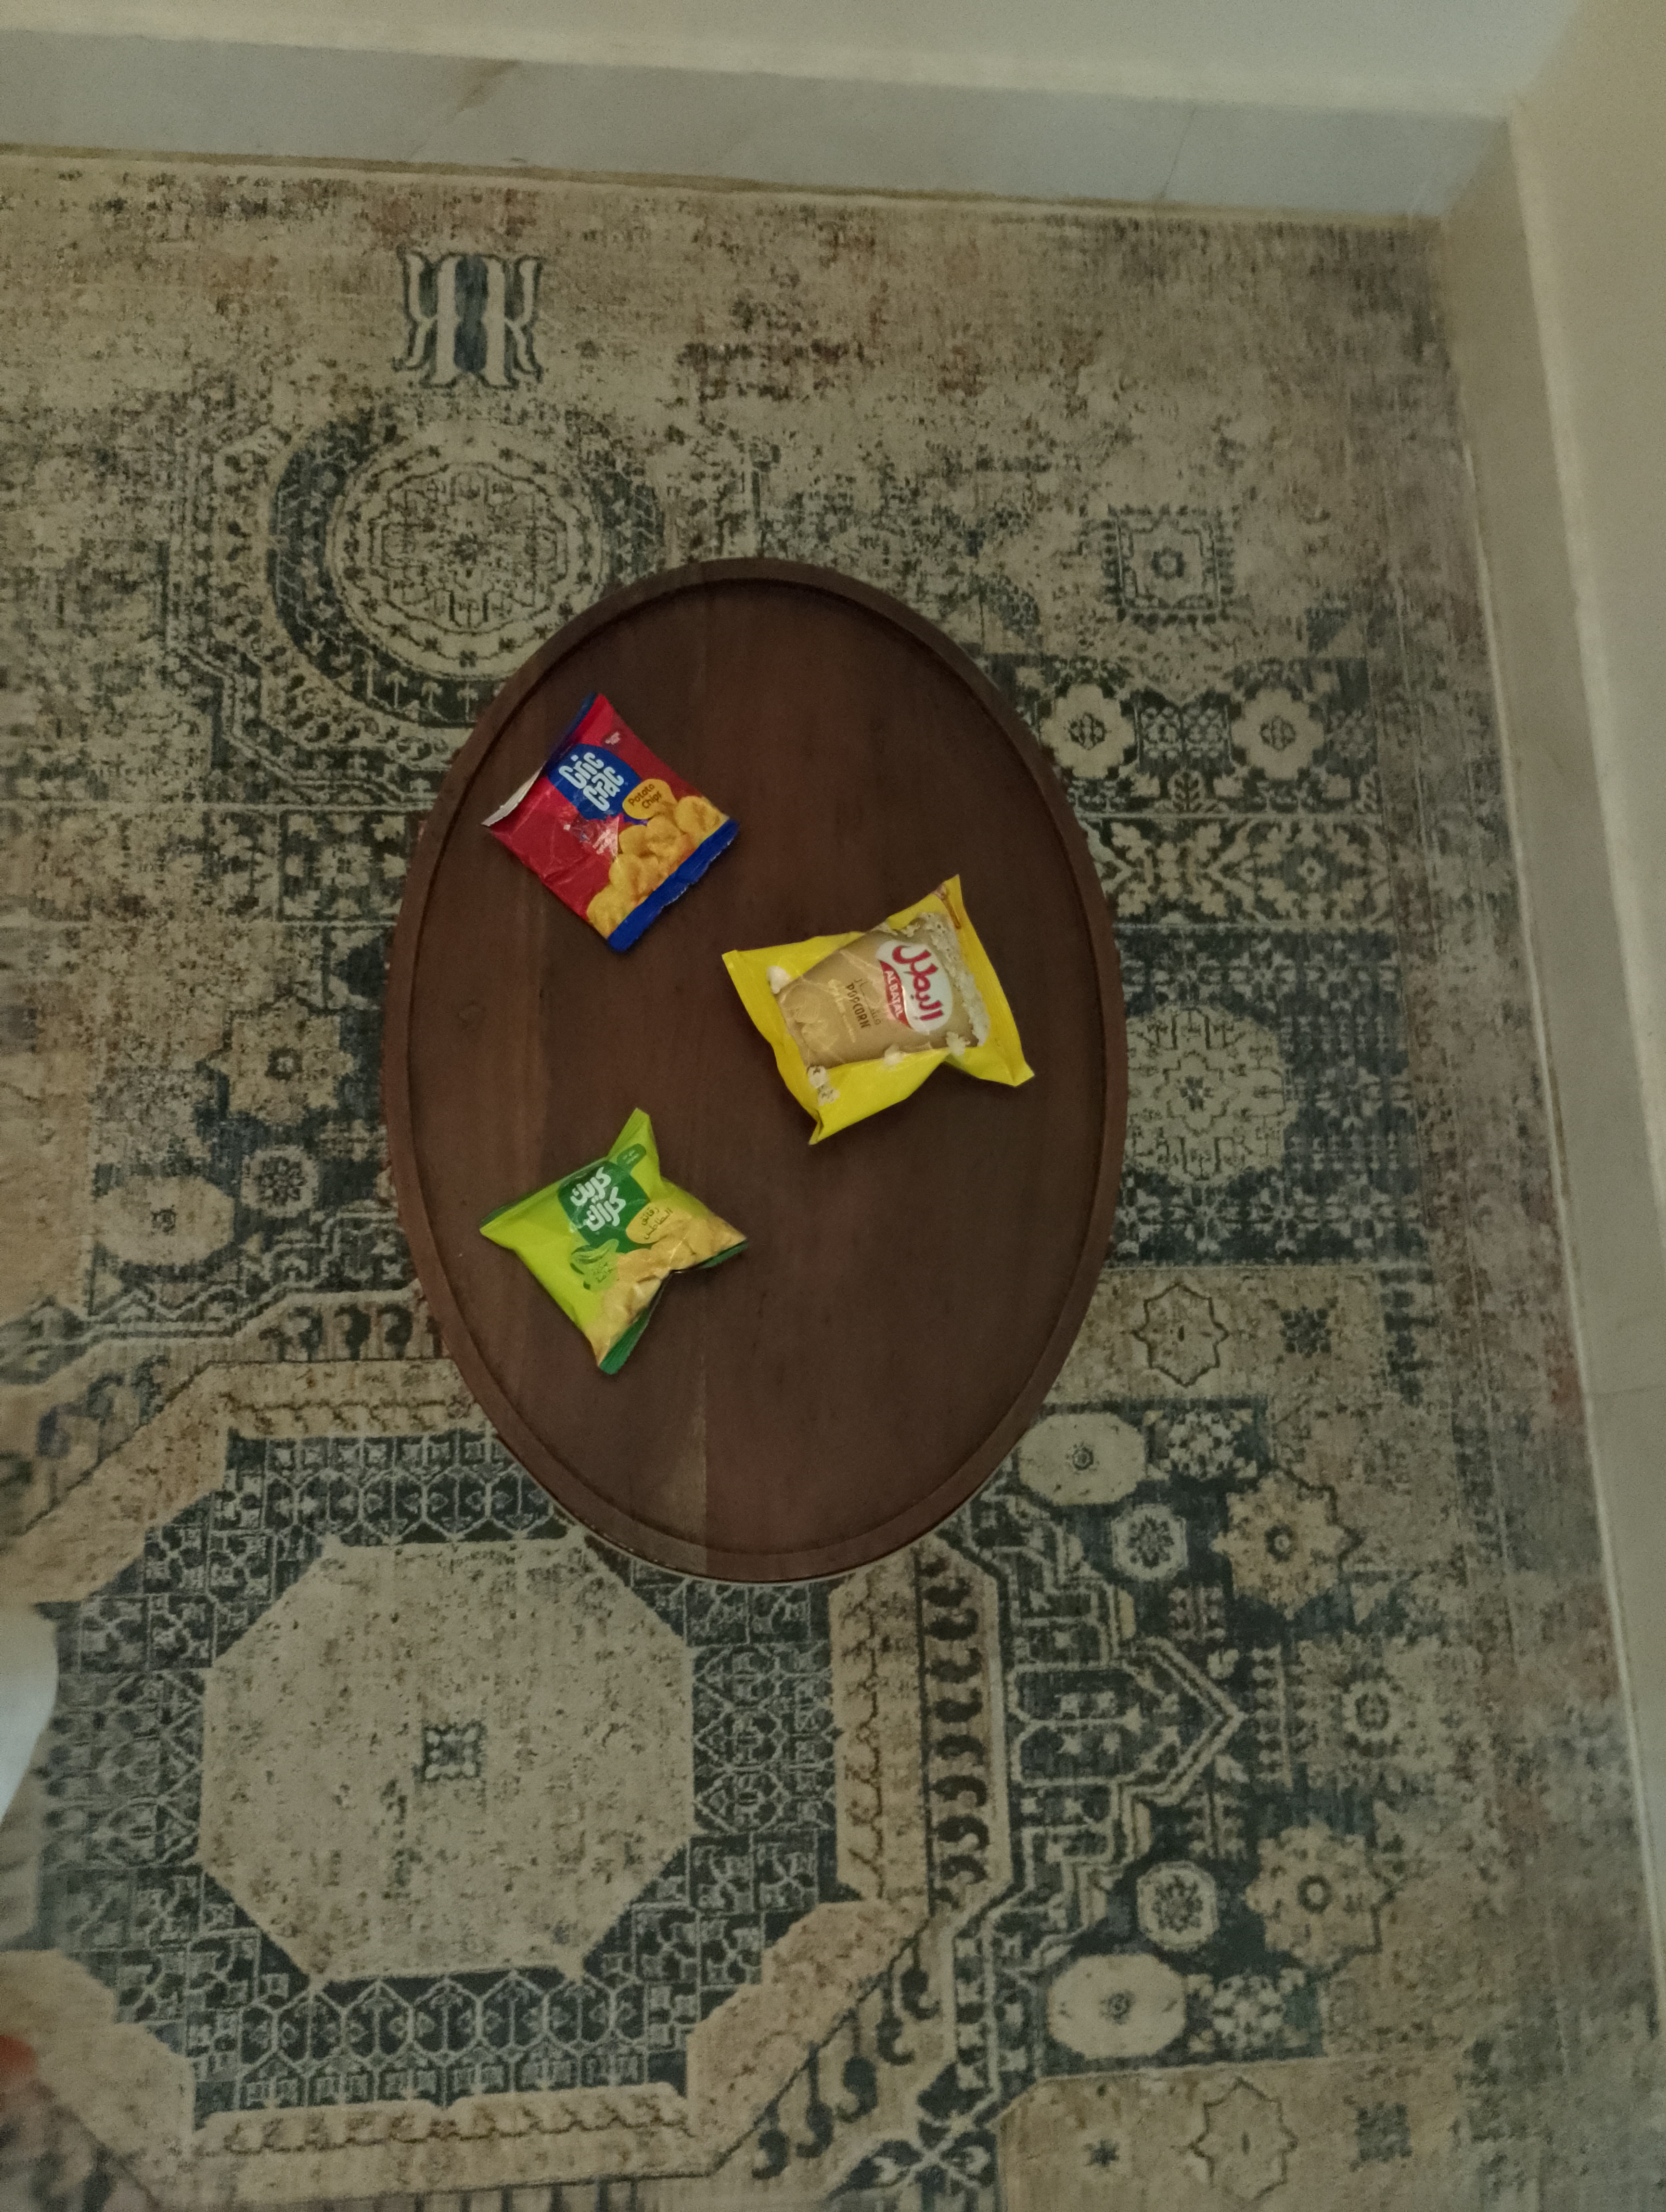albatal_popcorn_butter_flavor: (719, 871, 1036, 1145)
cric_crac_special_flavour: (478, 1105, 751, 1376)
cric_crac_tomato_ketchup: (476, 689, 744, 956)
